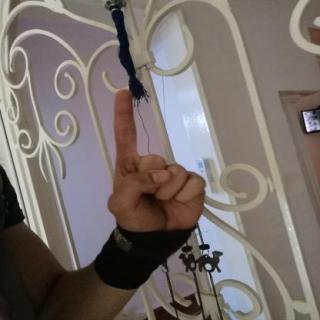BAA: (96, 83, 215, 240)
